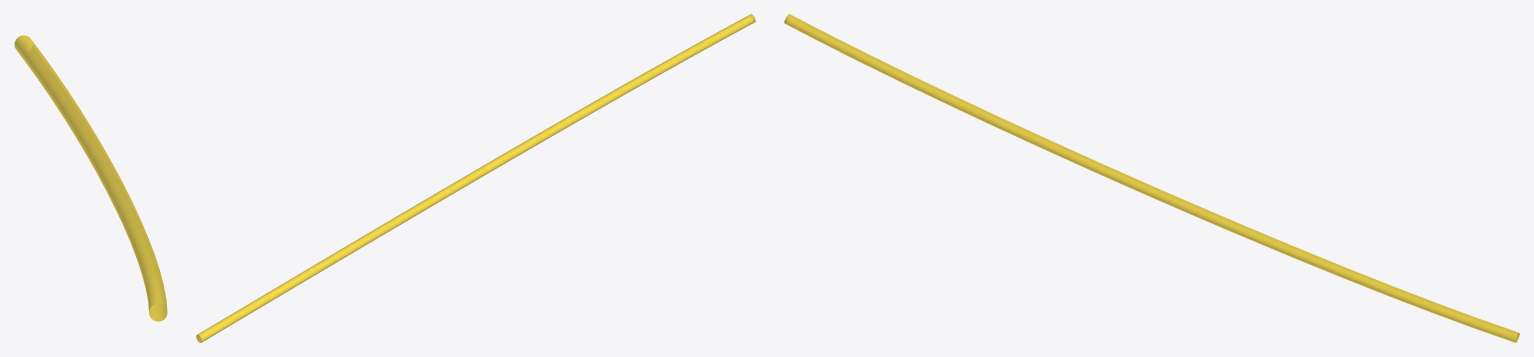
The model's file is Event_419990632_track_51.fbx.
3 views of the same model, side by side, from view 1: azimuth 90°, elevation 25°; view 2: azimuth 210°, elevation 25°; view 3: azimuth 330°, elevation 25° (orthographic). The views are drawn at different scales.
Parts seen in each view (by area): view 1: Model; view 2: Model; view 3: Model.
Boxes of the visible parts, left/top/right/bottom form: Model: left=14, top=35, right=167, bottom=321; Model: left=196, top=14, right=755, bottom=342; Model: left=784, top=14, right=1519, bottom=342.
Size of the model in its own units: 2.95 by 0.7687 by 0.3316.
